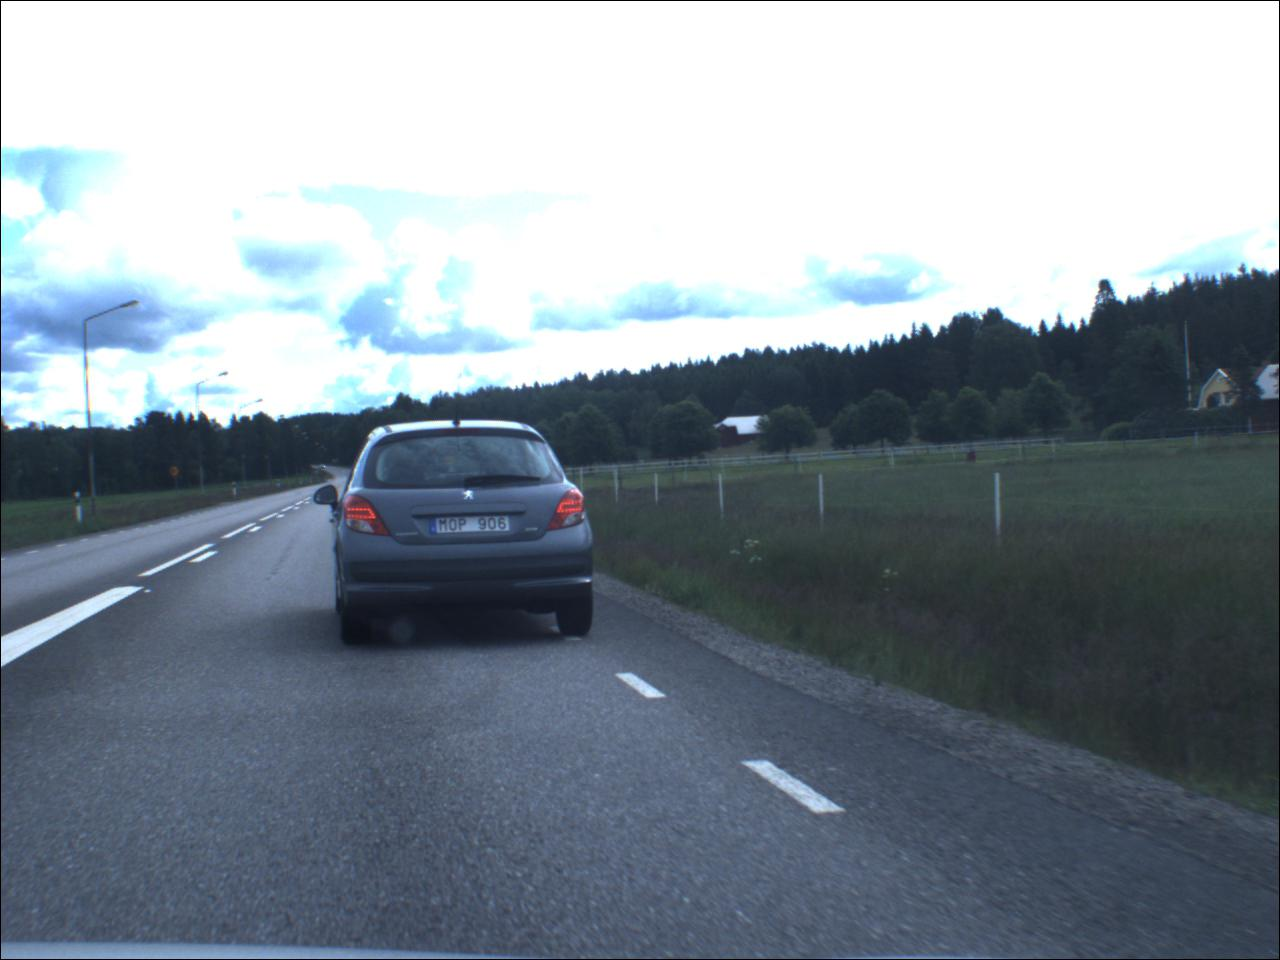80_SIGN: (170, 466, 183, 480)
